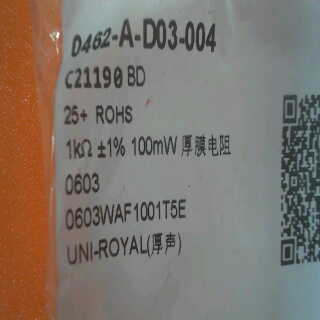1kR: (62, 132, 97, 167)
